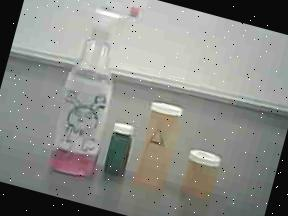Bottle A: (127, 97, 193, 194)
Bottle B: (174, 138, 233, 206)
Bottle C: (98, 116, 140, 184)
hazard: (36, 0, 142, 191)
